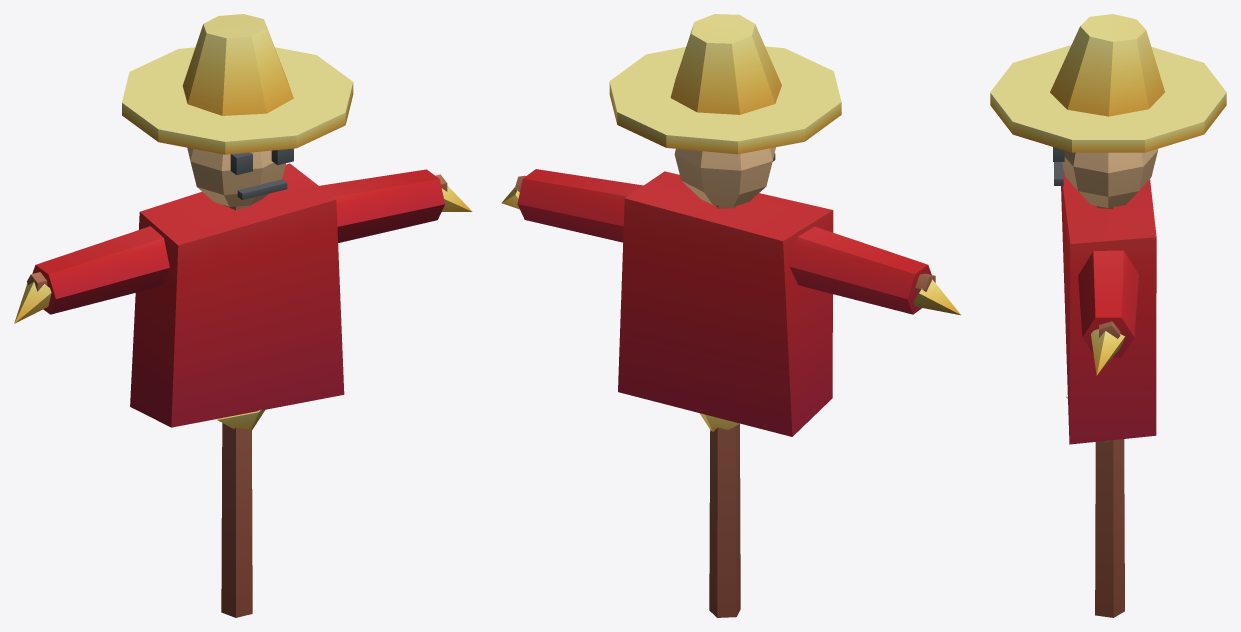
File: scarecrow_post.glb
3 views of the same model, side by side, from view 1: azimuth 30°, elevation 25°; view 2: azimuth 150°, elevation 25°; view 3: azimuth 270°, elevation 25° (orthographic).
Visible parts, largest first — view 1: scarecrow_post; view 2: scarecrow_post; view 3: scarecrow_post.
Boxes of the visible parts, x1,y1,x2,y2 form: scarecrow_post: (14,14,472,617); scarecrow_post: (501,14,960,617); scarecrow_post: (990,14,1226,617).
Bounding box in the file's own units: 2.24 × 2.73 × 1.
1 material, 1 textured.
